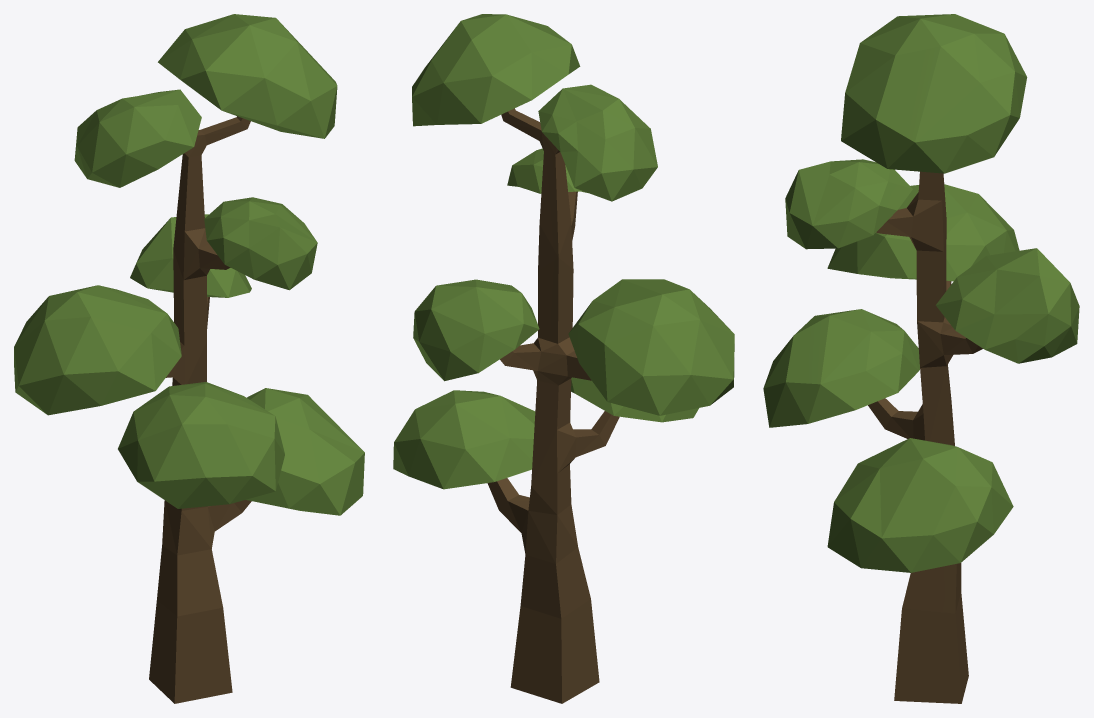
The model's file is Tree_30.fbx.
The picture shows the model from 3 angles, left to right: view 1: azimuth 30°, elevation 25°; view 2: azimuth 150°, elevation 25°; view 3: azimuth 270°, elevation 25°; orthographic projection. The views are drawn at different scales.
Visible parts, largest first — view 1: Tree_30; view 2: Tree_30; view 3: Tree_30.
Boxes of the visible parts, x1,y1,x2,y2 form: Tree_30: (14, 14, 364, 703); Tree_30: (393, 14, 734, 703); Tree_30: (763, 14, 1079, 703).
Bounding box in the file's own units: 258 × 485 × 199.
